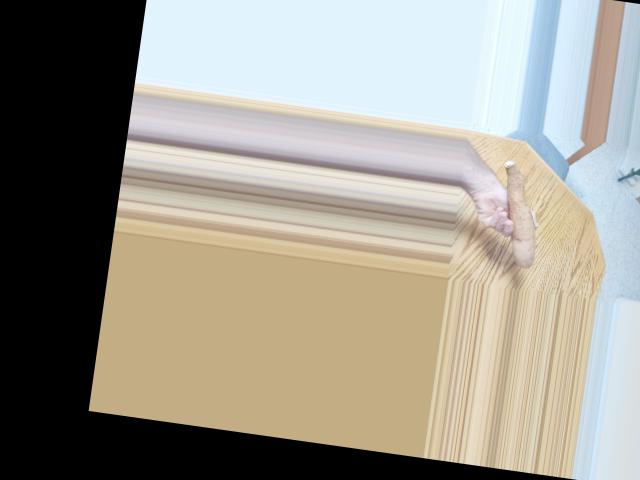sweet_potato: (481, 159, 552, 265)
